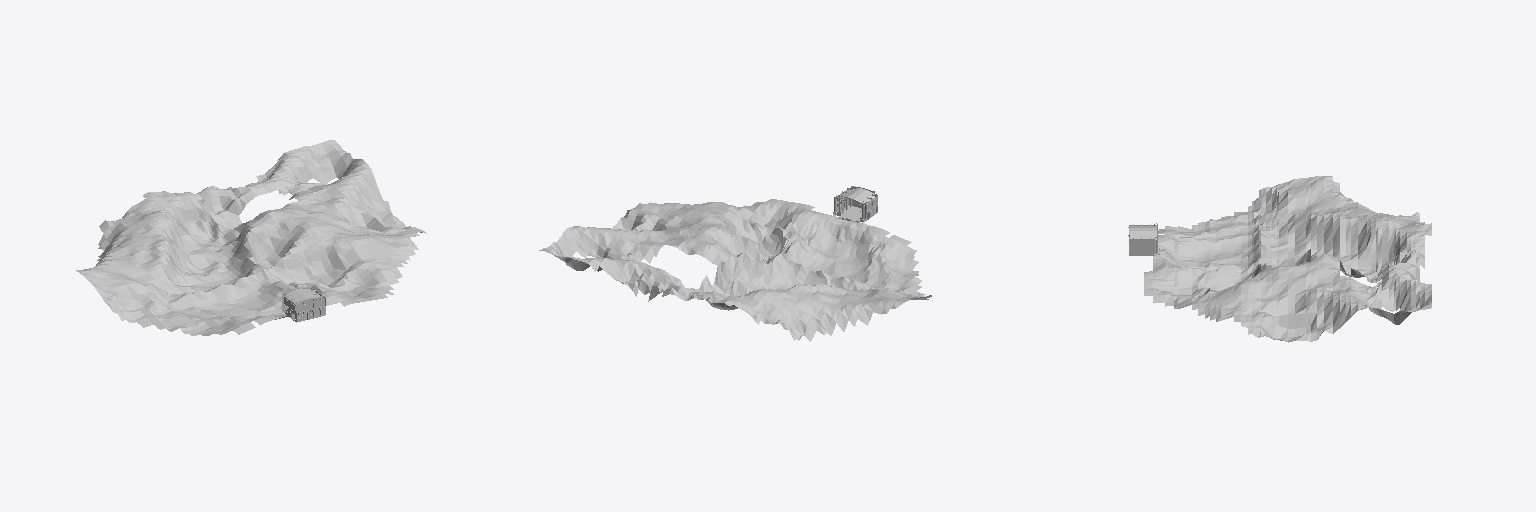
Rendered from lowpoly6.obj.
3 renders of one model, left to right at view 1: azimuth 30°, elevation 25°; view 2: azimuth 150°, elevation 25°; view 3: azimuth 270°, elevation 25°, orthographic.
Visible parts, largest first — view 1: Terrain_09_50000_Terrain_50000; view 2: Terrain_09_50000_Terrain_50000; view 3: Terrain_09_50000_Terrain_50000.
Part boxes in pixels (x1,y1,x2,y2): Terrain_09_50000_Terrain_50000: (76,140,426,335); Terrain_09_50000_Terrain_50000: (539,199,931,341); Terrain_09_50000_Terrain_50000: (1144,176,1431,342).
Bounding box in the file's own units: 1591 × 238 × 1353.